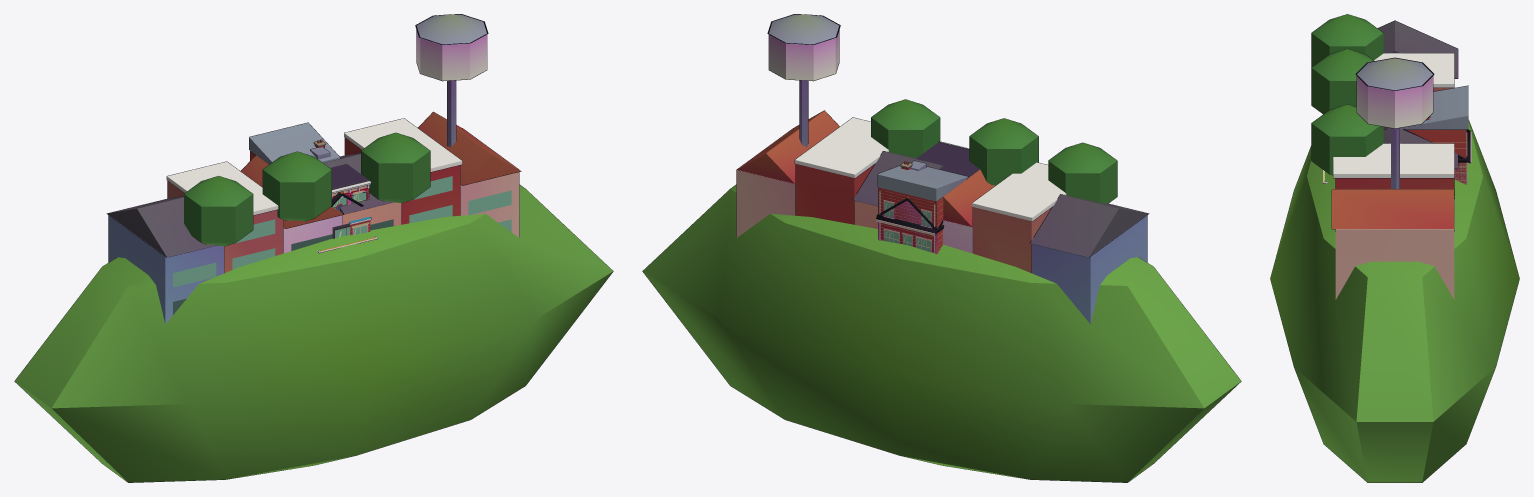
The model's file is fps-kit-townhomes.glb.
3 views of the same model, side by side, from view 1: azimuth 30°, elevation 25°; view 2: azimuth 150°, elevation 25°; view 3: azimuth 270°, elevation 25° (orthographic). The views are drawn at different scales.
Parts seen in each view (by area): view 1: KIT_TOWNHOMES_Backdrop_Hill, KIT_TOWNHOMES_Backdrop_Row, KIT_TOWNHOMES_House_Garage, KIT_TOWNHOMES_House_Brick; view 2: KIT_TOWNHOMES_Backdrop_Hill, KIT_TOWNHOMES_Backdrop_Row, KIT_TOWNHOMES_House_Garage, KIT_TOWNHOMES_House_Brick, KIT_TOWNHOMES_Walk_Brick, KIT_TOWNHOMES_House_Siding, KIT_TOWNHOMES_House_Stucco; view 3: KIT_TOWNHOMES_Backdrop_Hill, KIT_TOWNHOMES_Backdrop_Row, KIT_TOWNHOMES_House_Garage, KIT_TOWNHOMES_House_Brick, KIT_TOWNHOMES_House_Siding.
Boxes of the visible parts, x1,y1,x2,y2 form: KIT_TOWNHOMES_Backdrop_Hill: (14,14,613,482); KIT_TOWNHOMES_Backdrop_Row: (106,111,521,323); KIT_TOWNHOMES_House_Garage: (249,122,369,238); KIT_TOWNHOMES_House_Brick: (250,147,371,235); KIT_TOWNHOMES_Backdrop_Hill: (642,14,1241,482); KIT_TOWNHOMES_Backdrop_Row: (736,110,1149,323); KIT_TOWNHOMES_House_Garage: (877,141,979,201); KIT_TOWNHOMES_House_Brick: (878,141,969,254); KIT_TOWNHOMES_Walk_Brick: (878,188,934,252); KIT_TOWNHOMES_House_Siding: (875,161,967,254); KIT_TOWNHOMES_House_Stucco: (876,196,944,243); KIT_TOWNHOMES_Backdrop_Hill: (1270,14,1519,482); KIT_TOWNHOMES_Backdrop_Row: (1331,20,1458,299); KIT_TOWNHOMES_House_Garage: (1383,85,1468,129); KIT_TOWNHOMES_House_Brick: (1383,129,1466,184); KIT_TOWNHOMES_House_Siding: (1402,116,1471,184).
Size of the model in its own units: 57.12 by 40.54 by 21.04.
1 material, 1 textured.
